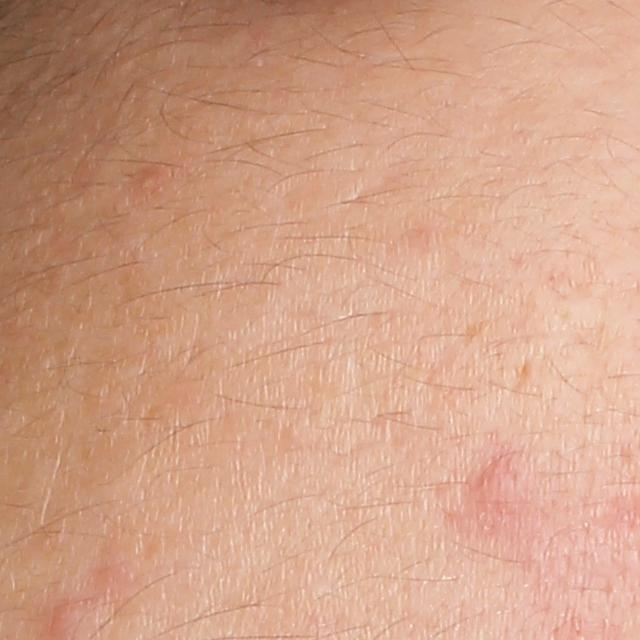papule: (464, 454, 518, 515), (133, 166, 162, 194)
